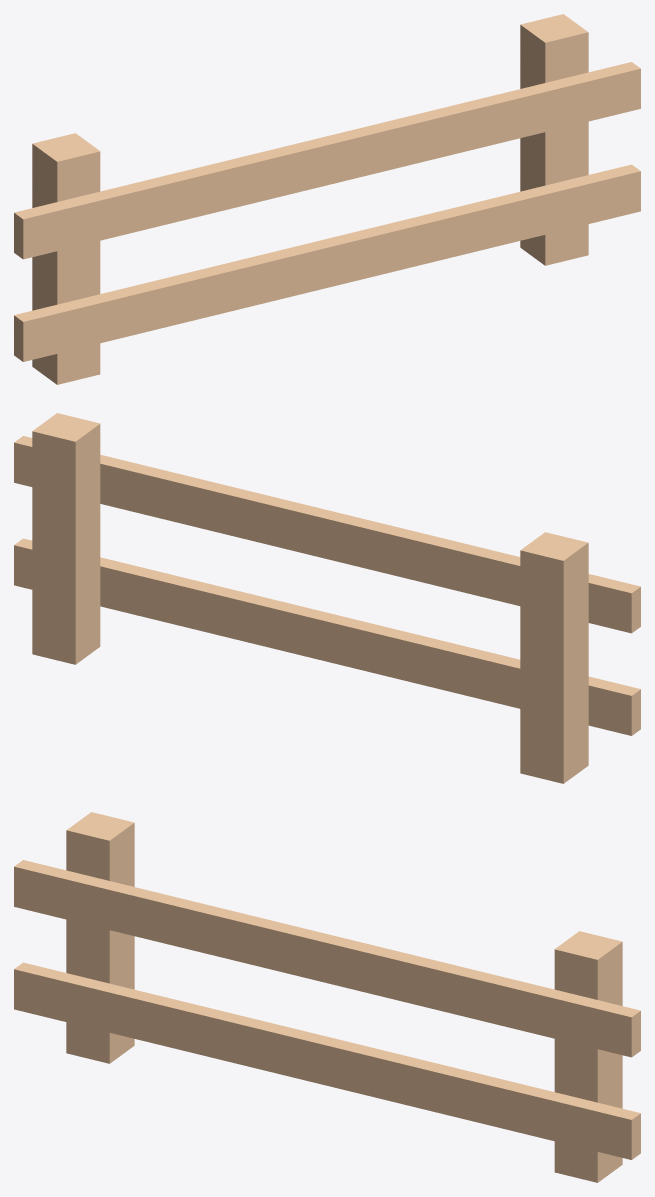
File: fence_simple.glb
3 views of the same model, one above another, from view 1: azimuth 30°, elevation 25°; view 2: azimuth 150°, elevation 25°; view 3: azimuth 330°, elevation 25° (orthographic).
Visible parts, largest first — view 1: fence_simple; view 2: fence_simple; view 3: fence_simple.
Part boxes in pixels (x1,y1,x2,y2): fence_simple: (14, 14, 640, 384); fence_simple: (14, 413, 640, 783); fence_simple: (14, 812, 640, 1182).
Bounding box in the file's own units: 1 × 0.345 × 0.0959.
